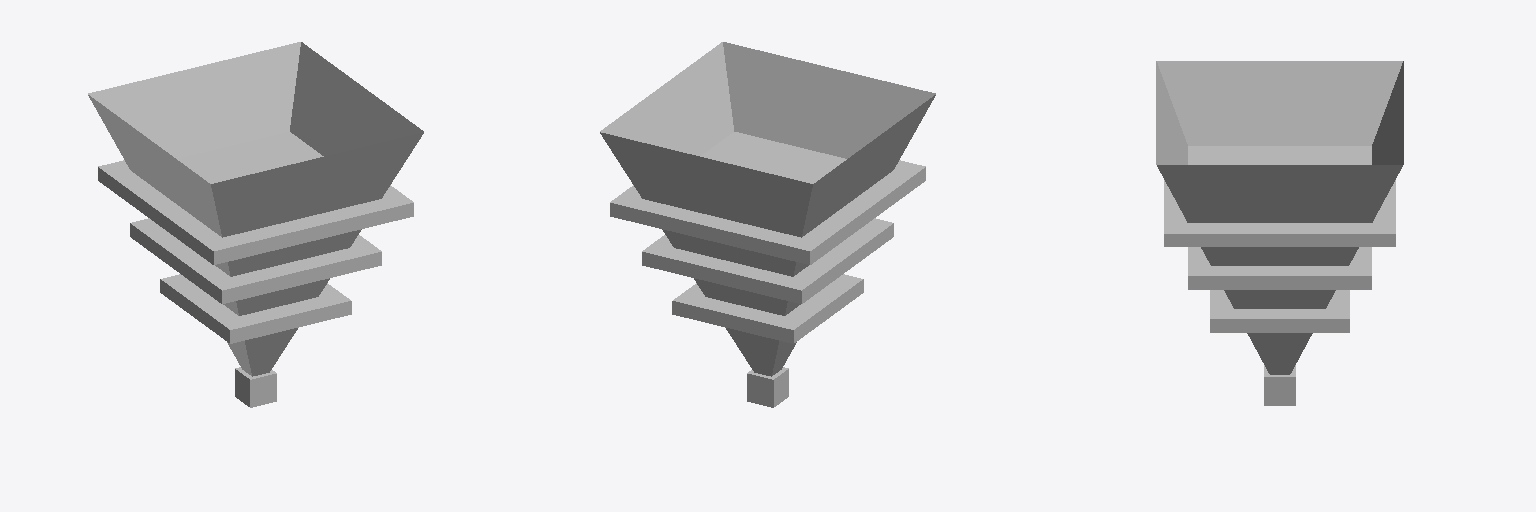
The model's file is pump_bottom.obj.
The picture shows the model from 3 angles: view 1: azimuth 30°, elevation 25°; view 2: azimuth 150°, elevation 25°; view 3: azimuth 270°, elevation 25°; orthographic projection.
Visible parts, largest first — view 1: Drill, Ring3, Ring2, Ring1, Cap; view 2: Drill, Ring3, Ring2, Ring1, Cap; view 3: Drill, Ring3, Ring2, Ring1, Cap.
Boxes of the visible parts, x1,y1,x2,y2 form: Drill: [88, 42, 423, 376]; Ring3: [98, 132, 413, 264]; Ring2: [130, 218, 381, 303]; Ring1: [160, 274, 351, 343]; Cap: [235, 367, 276, 407]; Drill: [600, 42, 935, 376]; Ring3: [610, 132, 925, 264]; Ring2: [642, 218, 893, 303]; Ring1: [672, 274, 863, 343]; Cap: [747, 367, 788, 407]; Drill: [1156, 61, 1403, 374]; Ring3: [1164, 146, 1395, 246]; Ring2: [1188, 247, 1371, 289]; Ring1: [1210, 290, 1349, 332]; Cap: [1264, 365, 1295, 405].
Size of the model in its own units: 19.68 by 25.17 by 19.68.